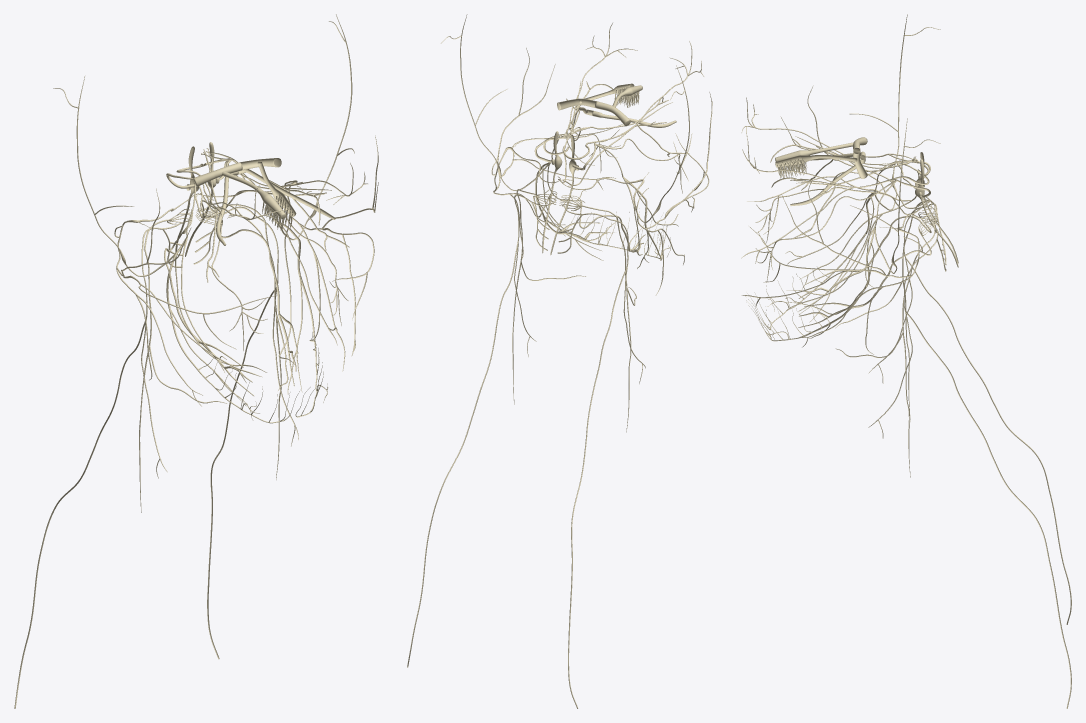
Rendered from z-nervous-cranial.glb.
3 views of the same model, side by side, from view 1: azimuth 30°, elevation 25°; view 2: azimuth 150°, elevation 25°; view 3: azimuth 270°, elevation 25° (orthographic). The views are drawn at different scales.
Visible parts, largest first — view 1: nervous-facial-nerve-right, nervous-facial-nerve-left, nervous-accessory-nerve-right, nervous-accessory-nerve-left, nervous-olfactory-nerve-right, nervous-glossopharyngeal-nerve-right, nervous-olfactory-nerve-left, nervous-hypoglossal-nerve-left, nervous-glossopharyngeal-nerve-left, nervous-z-inferior-alveolar-nerve-right, nervous-hypoglossal-nerve-right, nervous-z-meningeal-branch-of-maxillary-nerve-right; view 2: nervous-accessory-nerve-right, nervous-accessory-nerve-left, nervous-facial-nerve-left, nervous-facial-nerve-right, nervous-olfactory-nerve-right, nervous-glossopharyngeal-nerve-left, nervous-glossopharyngeal-nerve-right, nervous-olfactory-nerve-left, nervous-z-meningeal-branch-of-maxillary-nerve-left; view 3: nervous-facial-nerve-left, nervous-accessory-nerve-left, nervous-facial-nerve-right, nervous-accessory-nerve-right, nervous-olfactory-nerve-left, nervous-glossopharyngeal-nerve-left, nervous-olfactory-nerve-right, nervous-hypoglossal-nerve-left, nervous-hypoglossal-nerve-right, nervous-glossopharyngeal-nerve-right.
Part boxes in pixels (x1,y1,x2,y2): nervous-facial-nerve-right: (114, 188, 275, 406); nervous-facial-nerve-left: (197, 135, 378, 371); nervous-accessory-nerve-right: (14, 219, 190, 708); nervous-accessory-nerve-left: (193, 206, 298, 659); nervous-olfactory-nerve-right: (193, 162, 286, 230); nervous-glossopharyngeal-nerve-right: (139, 208, 227, 512); nervous-olfactory-nerve-left: (240, 158, 296, 228); nervous-hypoglossal-nerve-left: (195, 208, 298, 386); nervous-glossopharyngeal-nerve-left: (198, 204, 288, 479); nervous-z-inferior-alveolar-nerve-right: (168, 307, 299, 423); nervous-hypoglossal-nerve-right: (164, 209, 253, 395); nervous-z-meningeal-branch-of-maxillary-nerve-right: (53, 75, 186, 276); nervous-accessory-nerve-right: (557, 202, 645, 708); nervous-accessory-nerve-left: (407, 194, 555, 667); nervous-facial-nerve-left: (491, 48, 622, 259); nervous-facial-nerve-right: (561, 92, 712, 295); nervous-olfactory-nerve-right: (595, 85, 642, 126); nervous-glossopharyngeal-nerve-left: (512, 183, 586, 404); nervous-glossopharyngeal-nerve-right: (560, 188, 636, 432); nervous-olfactory-nerve-left: (557, 83, 634, 110); nervous-z-meningeal-branch-of-maxillary-nerve-left: (440, 14, 551, 190); nervous-facial-nerve-left: (741, 177, 931, 354); nervous-accessory-nerve-left: (868, 224, 1071, 708); nervous-facial-nerve-right: (741, 85, 931, 289); nervous-accessory-nerve-right: (868, 203, 1071, 624); nervous-olfactory-nerve-left: (775, 147, 867, 178); nervous-glossopharyngeal-nerve-left: (835, 213, 937, 477); nervous-olfactory-nerve-right: (775, 137, 867, 174); nervous-hypoglossal-nerve-left: (798, 216, 937, 327); nervous-hypoglossal-nerve-right: (798, 212, 937, 311); nervous-glossopharyngeal-nerve-right: (835, 200, 937, 421).
Size of the model in its own units: 0.1533 by 0.376 by 0.1877.
